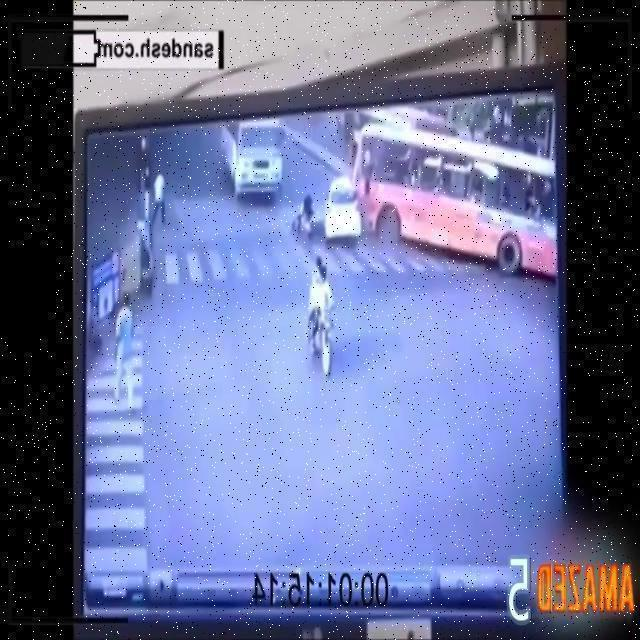accident: (324, 115, 560, 286)
